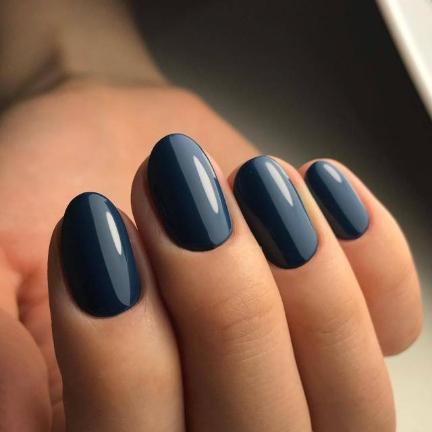Nail: (60, 192, 142, 318), (147, 133, 233, 252), (233, 155, 319, 269), (304, 161, 369, 240)
